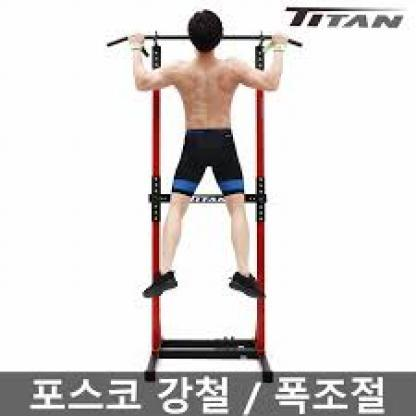chinning dipping: (106, 30, 304, 371)
